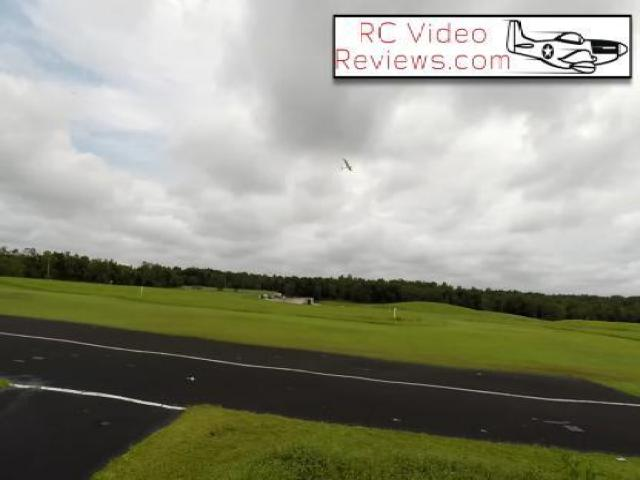uav: (332, 153, 357, 177)
